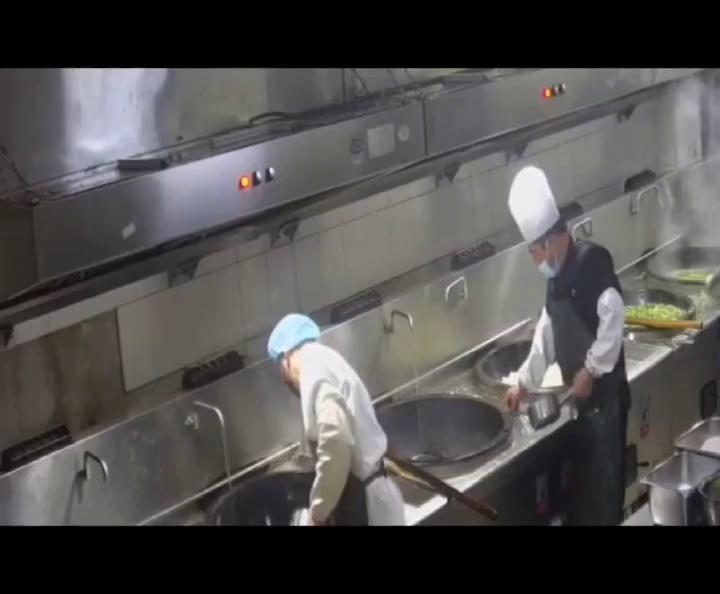gloves: (266, 309, 326, 350)
